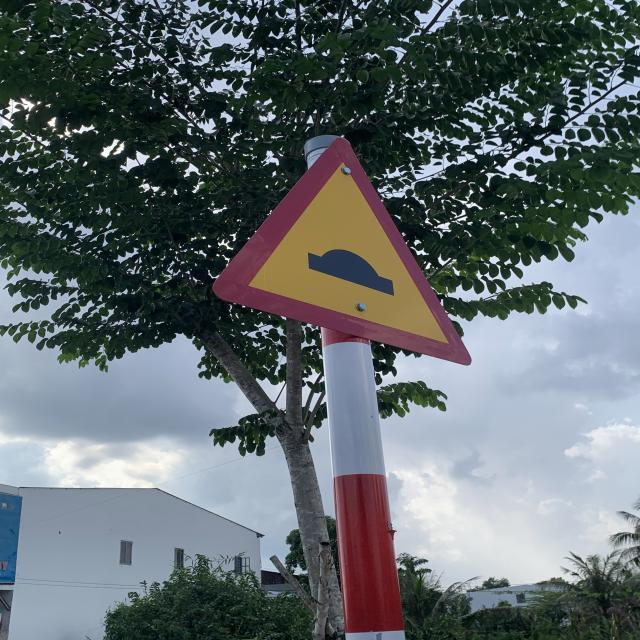Duong_Cong_Ben_Phai: (218, 134, 476, 368)
